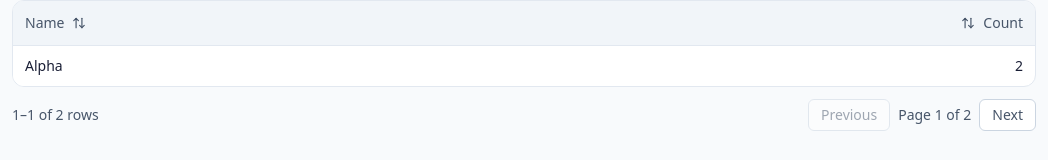
Test: DataTable › shows the visible range as the reader moves between pages
Check: the text "1–1 of 2 rows" is shown, box [12,104,99,124]
Check: the cell "Alpha" is shown, box [13,46,523,86]
Step 1. Click the button "Next" → (1008, 114), box [979,98,1036,130]
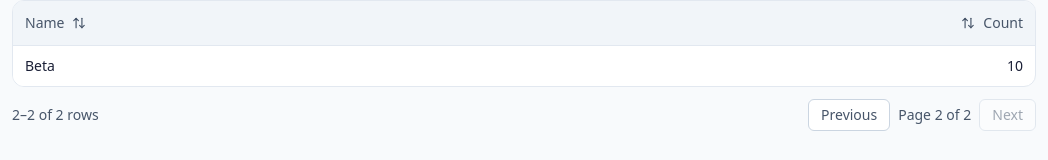
Check: the text "2–2 of 2 rows" is shown, box [12,104,99,124]
Check: the cell "Beta" is shown, box [13,46,523,86]
Check: the cell "Alpha" is gone
Step 2. Click the button "Previous" → (849, 114), box [808,98,890,130]
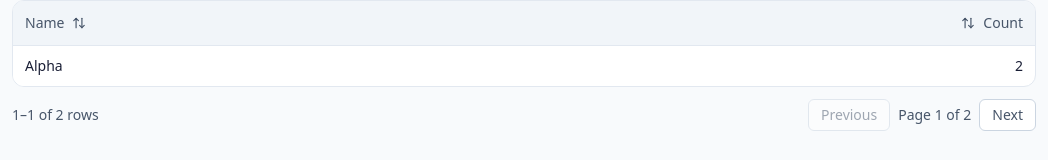
Check: the text "1–1 of 2 rows" is shown, box [12,104,99,124]
